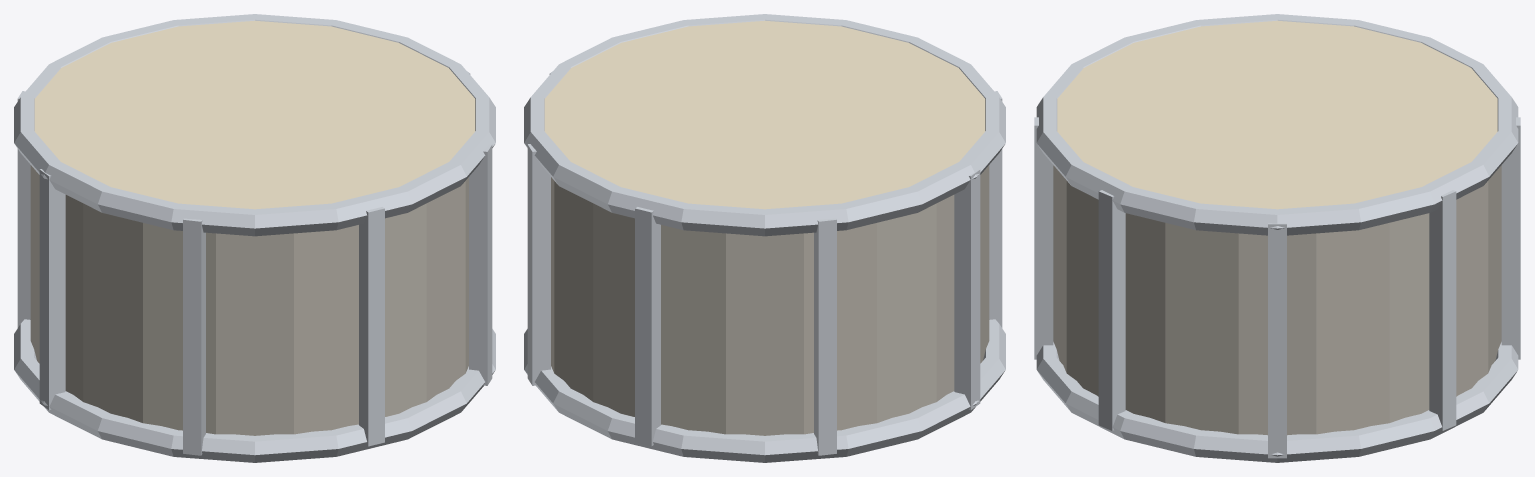
Rendered from drum.glb.
3 renders of one model, left to right at view 1: azimuth 30°, elevation 25°; view 2: azimuth 150°, elevation 25°; view 3: azimuth 270°, elevation 25°, orthographic.
Parts seen in each view (by area): view 1: drum; view 2: drum; view 3: drum.
Part boxes in pixels (x1,y1,x2,y2): drum: (14,14,495,462); drum: (524,14,1005,462); drum: (1034,14,1520,462).
Size of the model in its own units: 0.36 by 0.2013 by 0.358.
